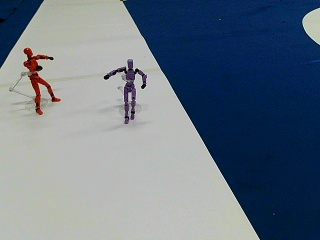pedestrian: (103, 60, 148, 121), (22, 46, 59, 113)
